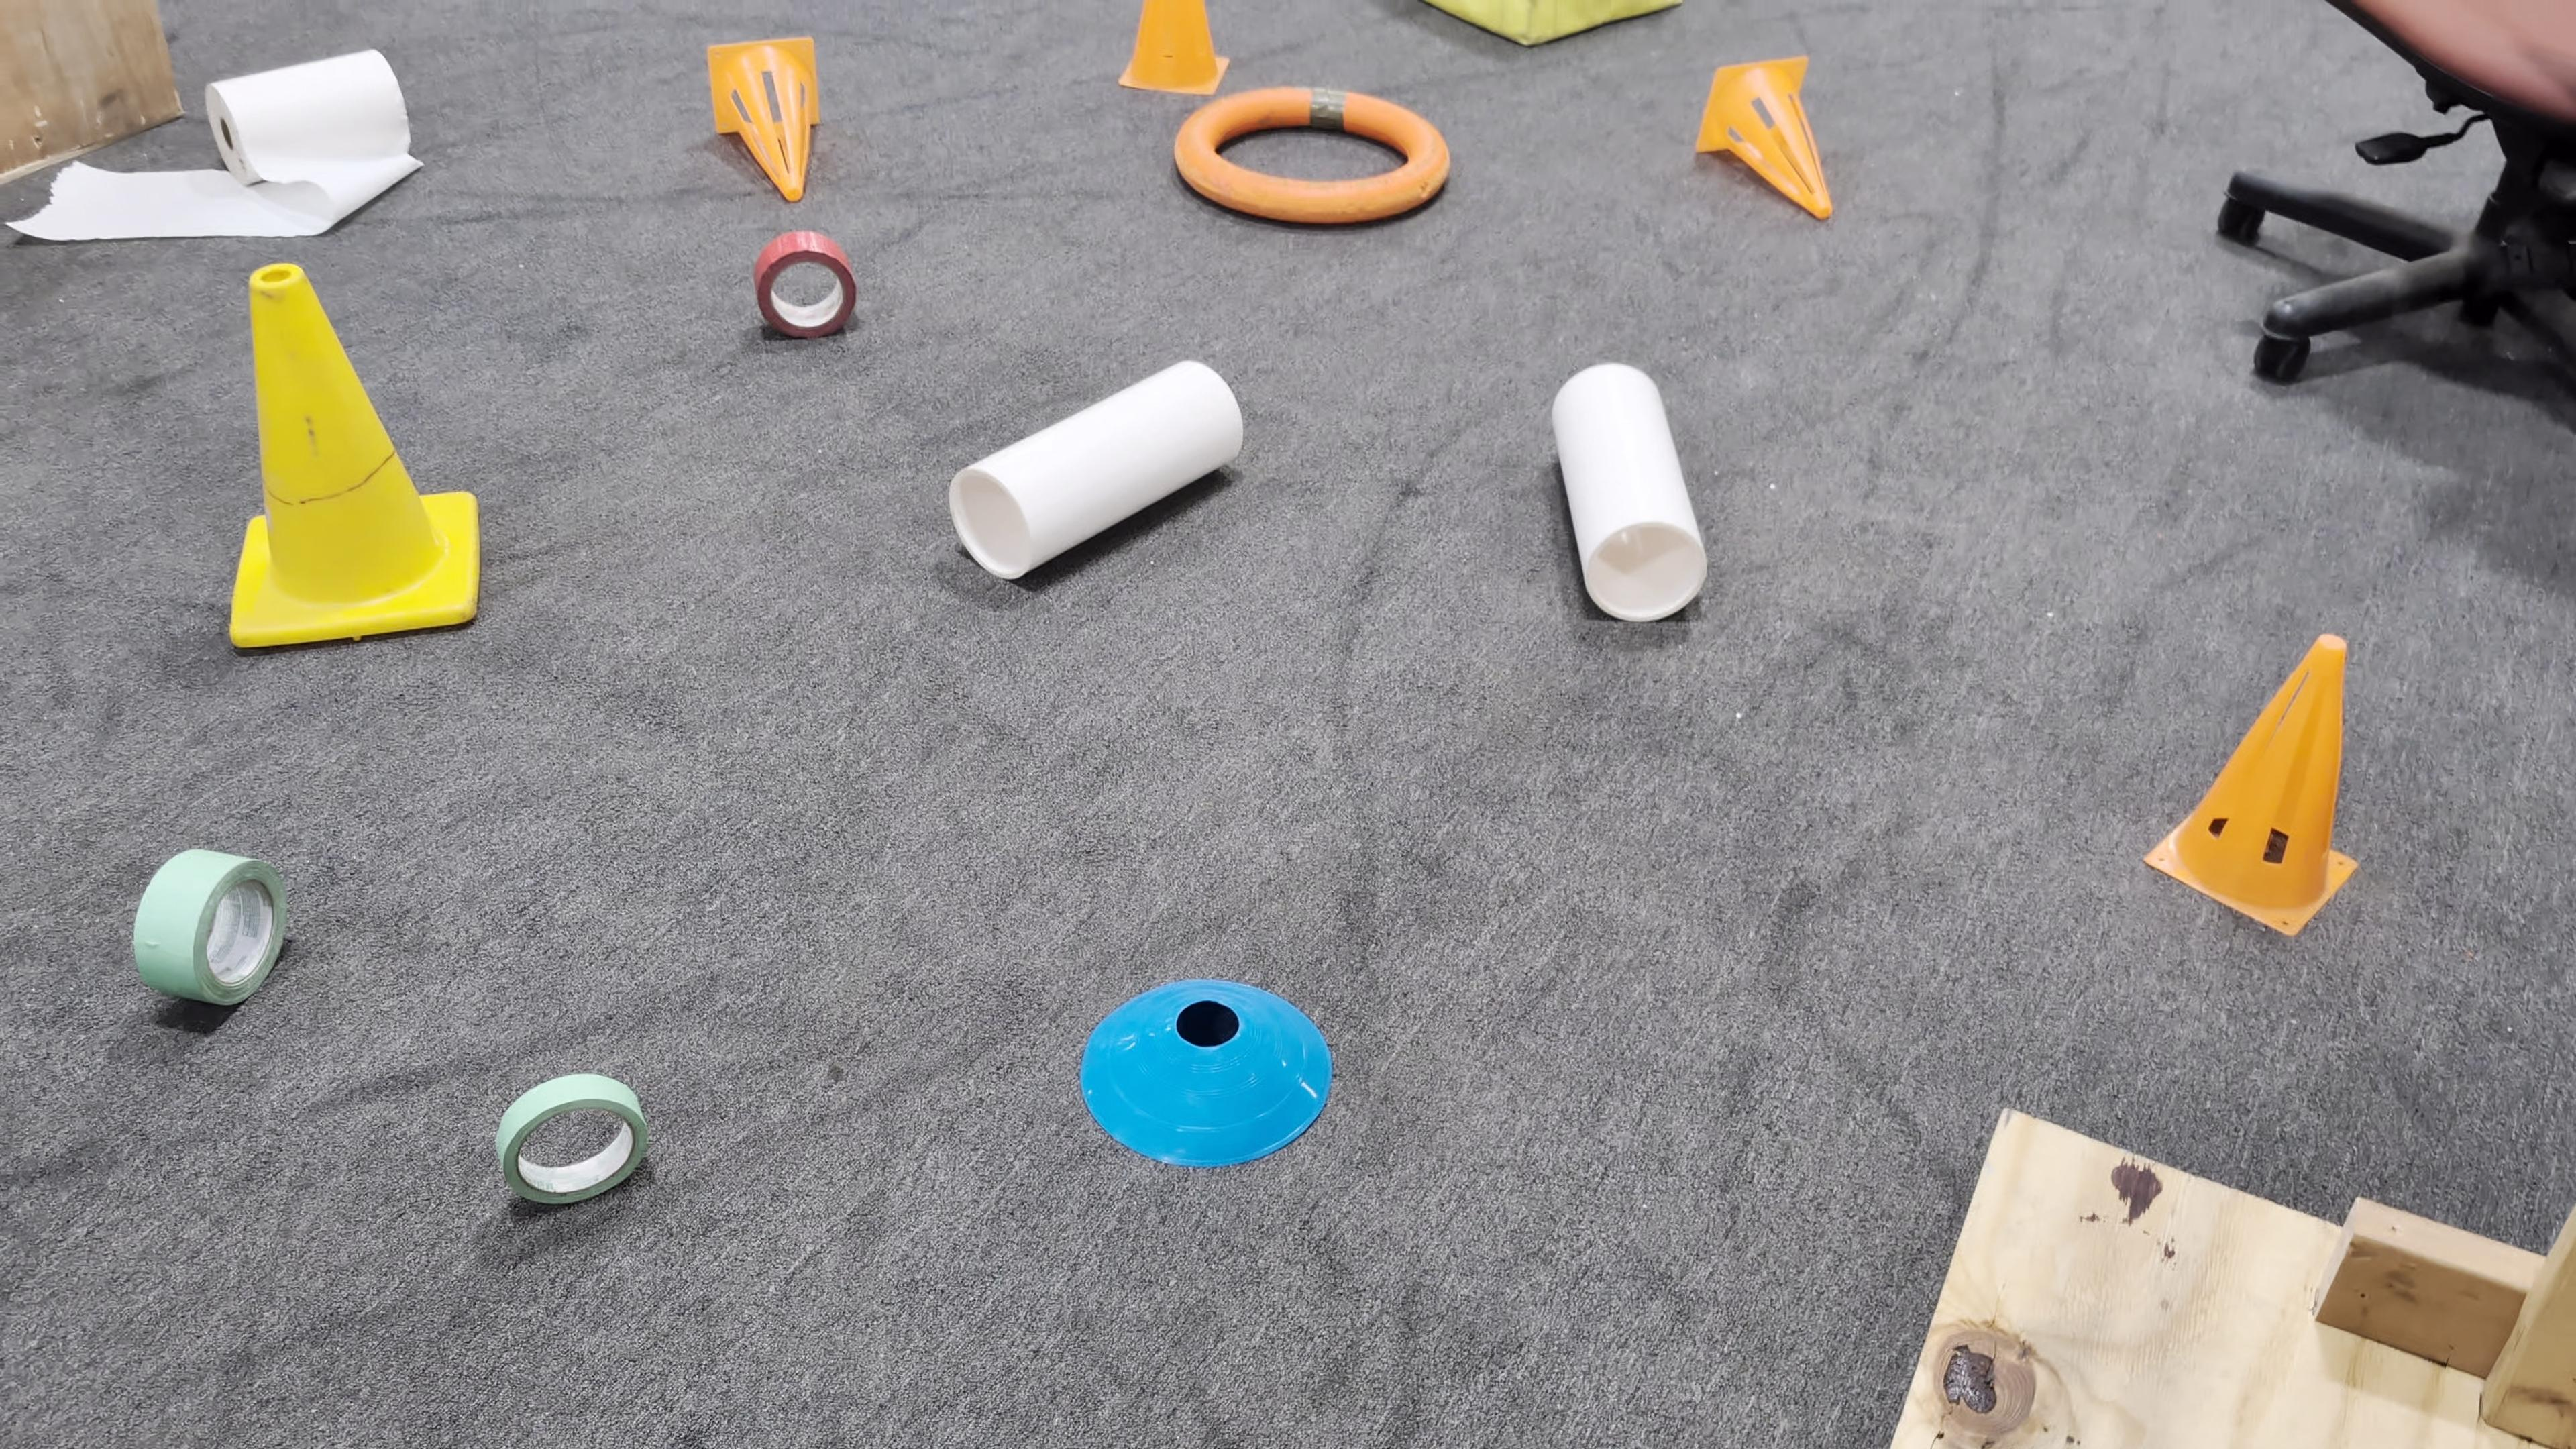coral: (950, 356, 1246, 579), (1548, 361, 1709, 621)
